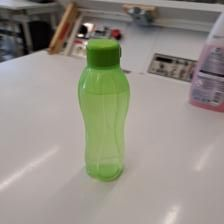bottle: (78, 37, 133, 183)
